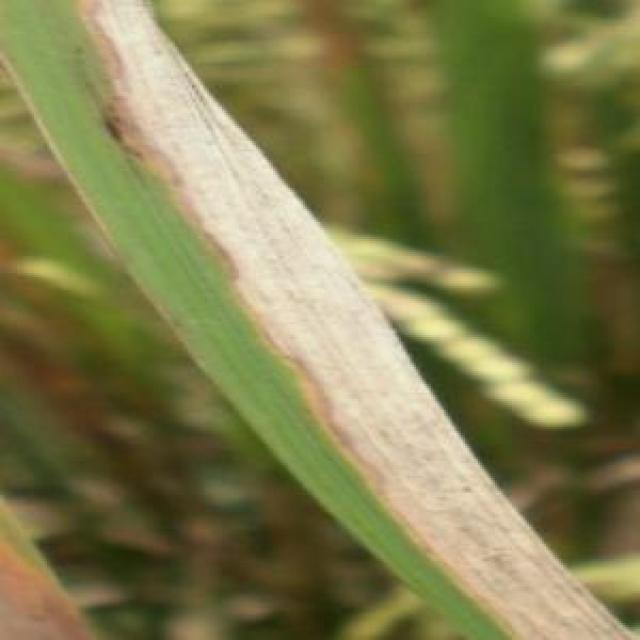Rice_Bacterial_Blight: (136, 53, 444, 555)
